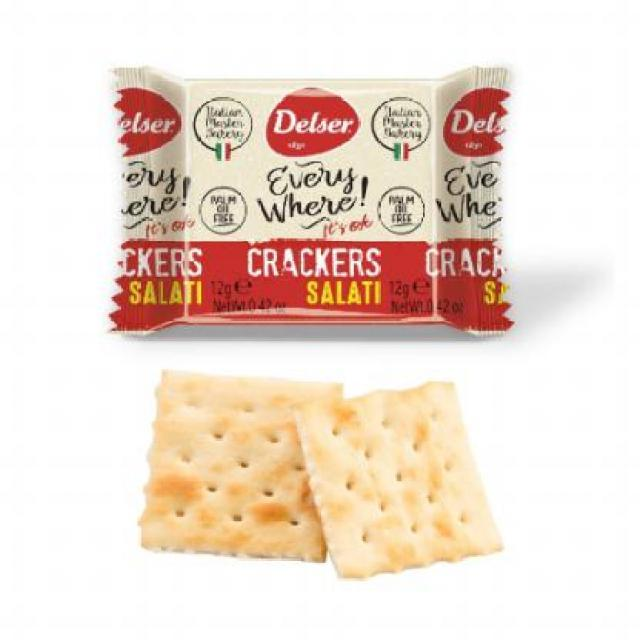Cracker: (99, 58, 533, 344)
Cracker packaged: (125, 373, 362, 579), (289, 383, 513, 580)
